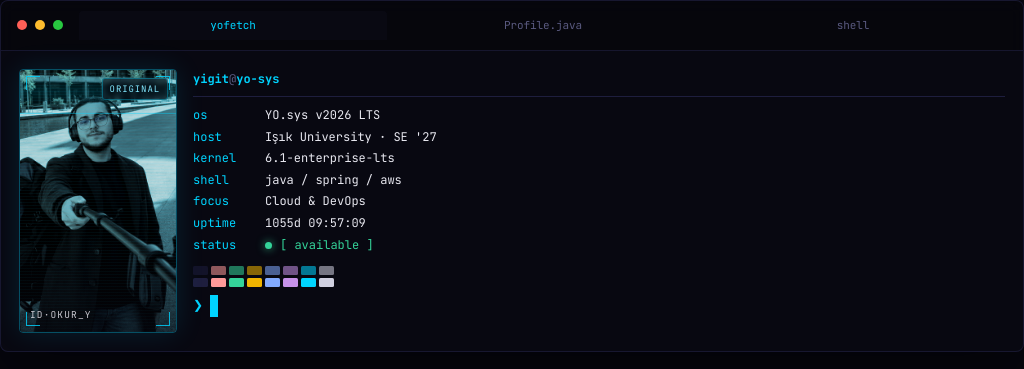
Test: SystemTerminal › turns `open` into a real link and rejects unknown pages
Click the tab "shell" at (853, 25), box [699,11,1007,40]
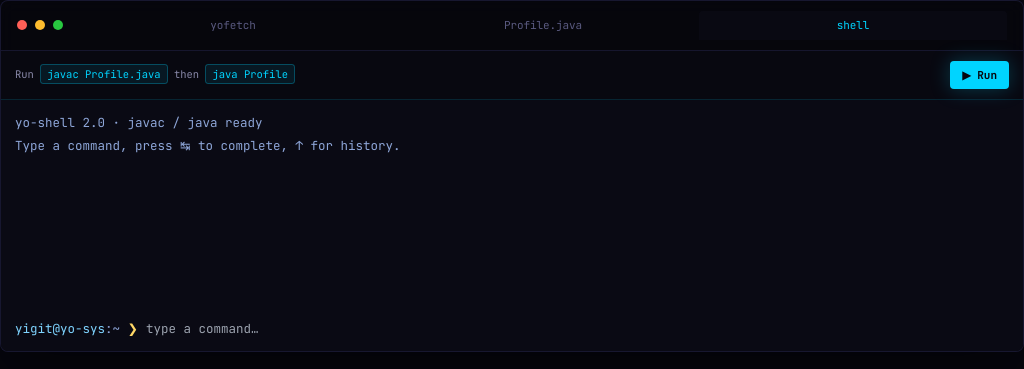
Type "open projects" into the field named "Shell input" at (578, 329), box [146,320,1009,339]
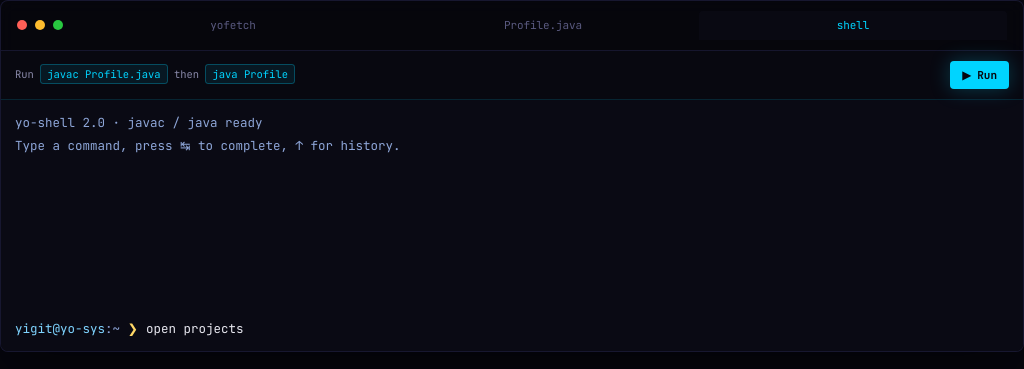
Press Enter in the field named "Shell input", box [146,320,1009,339]
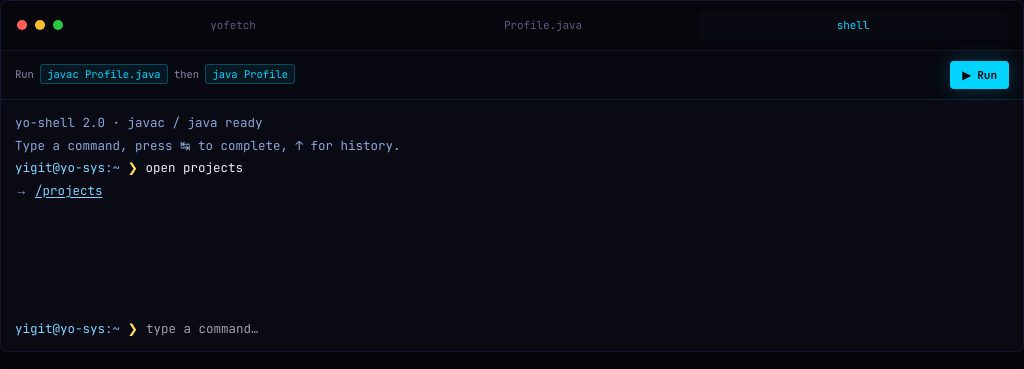
Type "open nowhere" into the field named "Shell input" at (578, 329), box [146,320,1009,339]
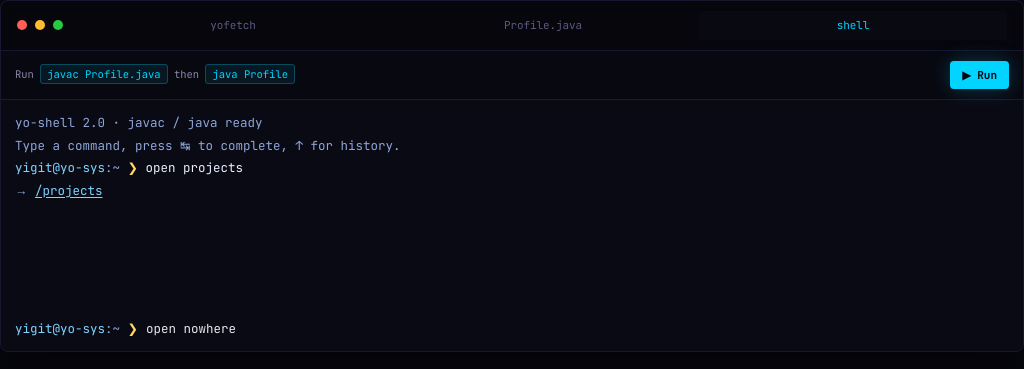
Press Enter in the field named "Shell input", box [146,320,1009,339]
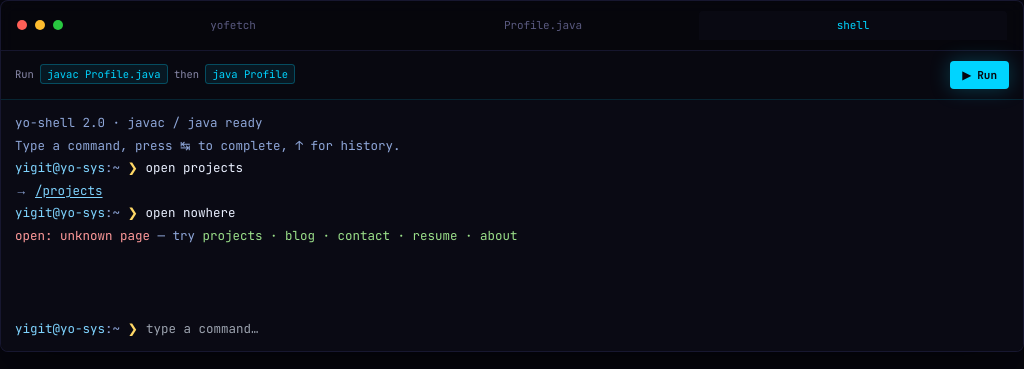
Check: the text "open: unknown page" is shown, box [15,226,150,244]
